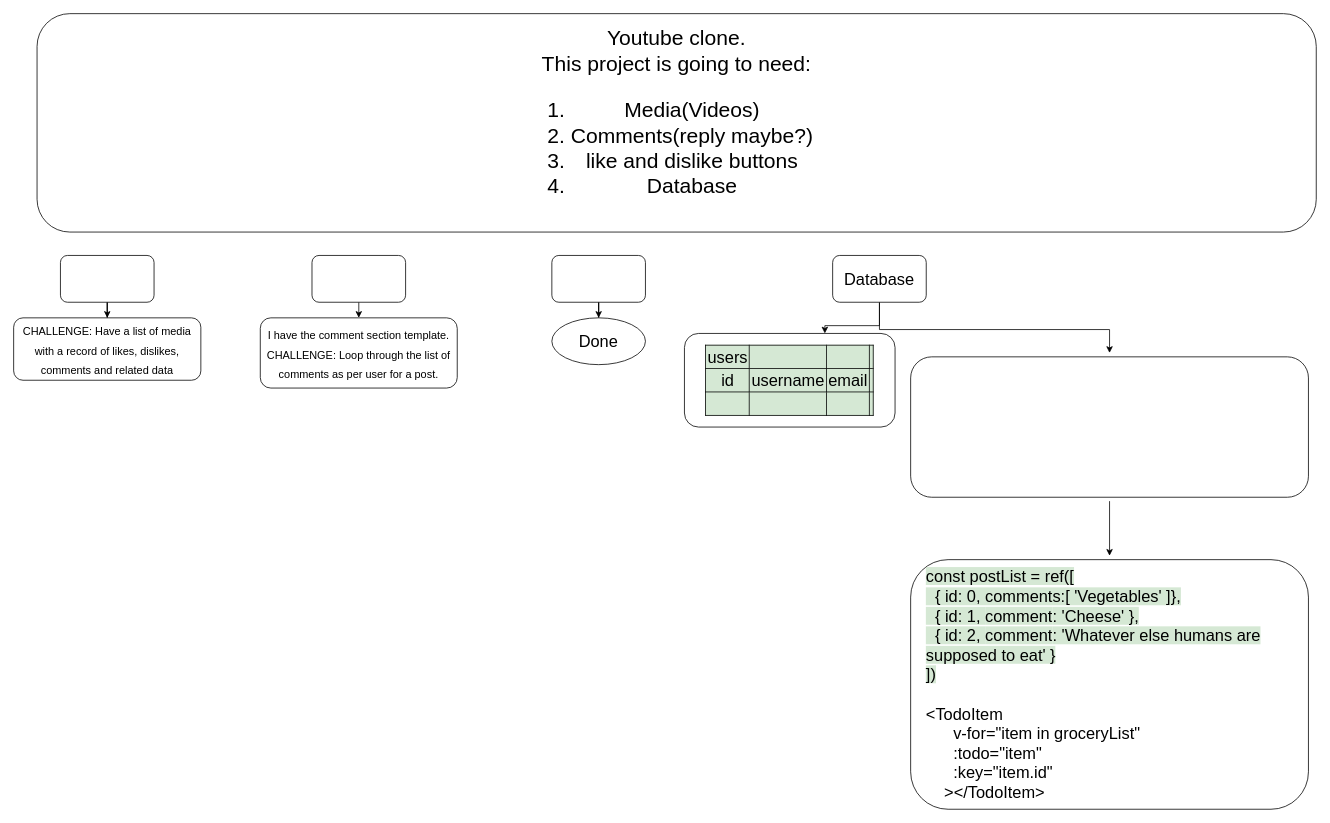
Some shapes in this 1330 by 823 pixel diagram are drawn without their labels. The shapes that lost their labels are listed below. From the top down, each one's box as (x1, y1, x2, y2) in pixels, then its label:
(60, 255, 154, 302): Media
(311, 255, 406, 302): comments
(551, 255, 645, 302): like and dislike
(910, 356, 1308, 497): Media id username comment date likes dislikes date likes dislikes date
